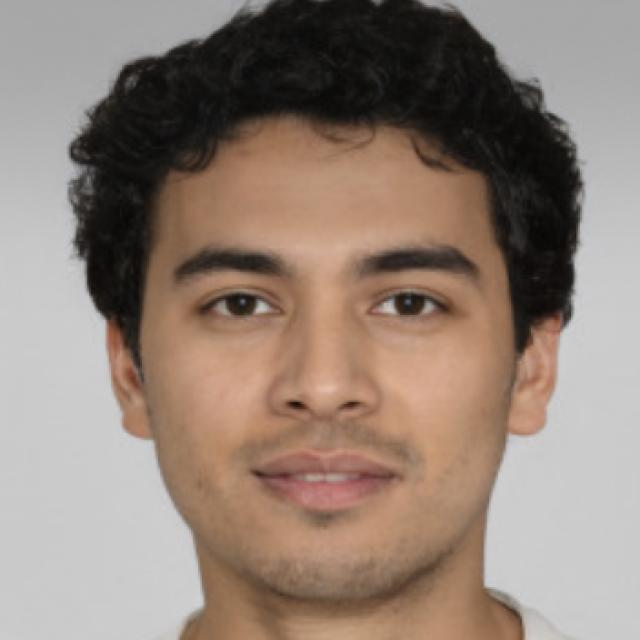natural: (87, 16, 584, 607)
